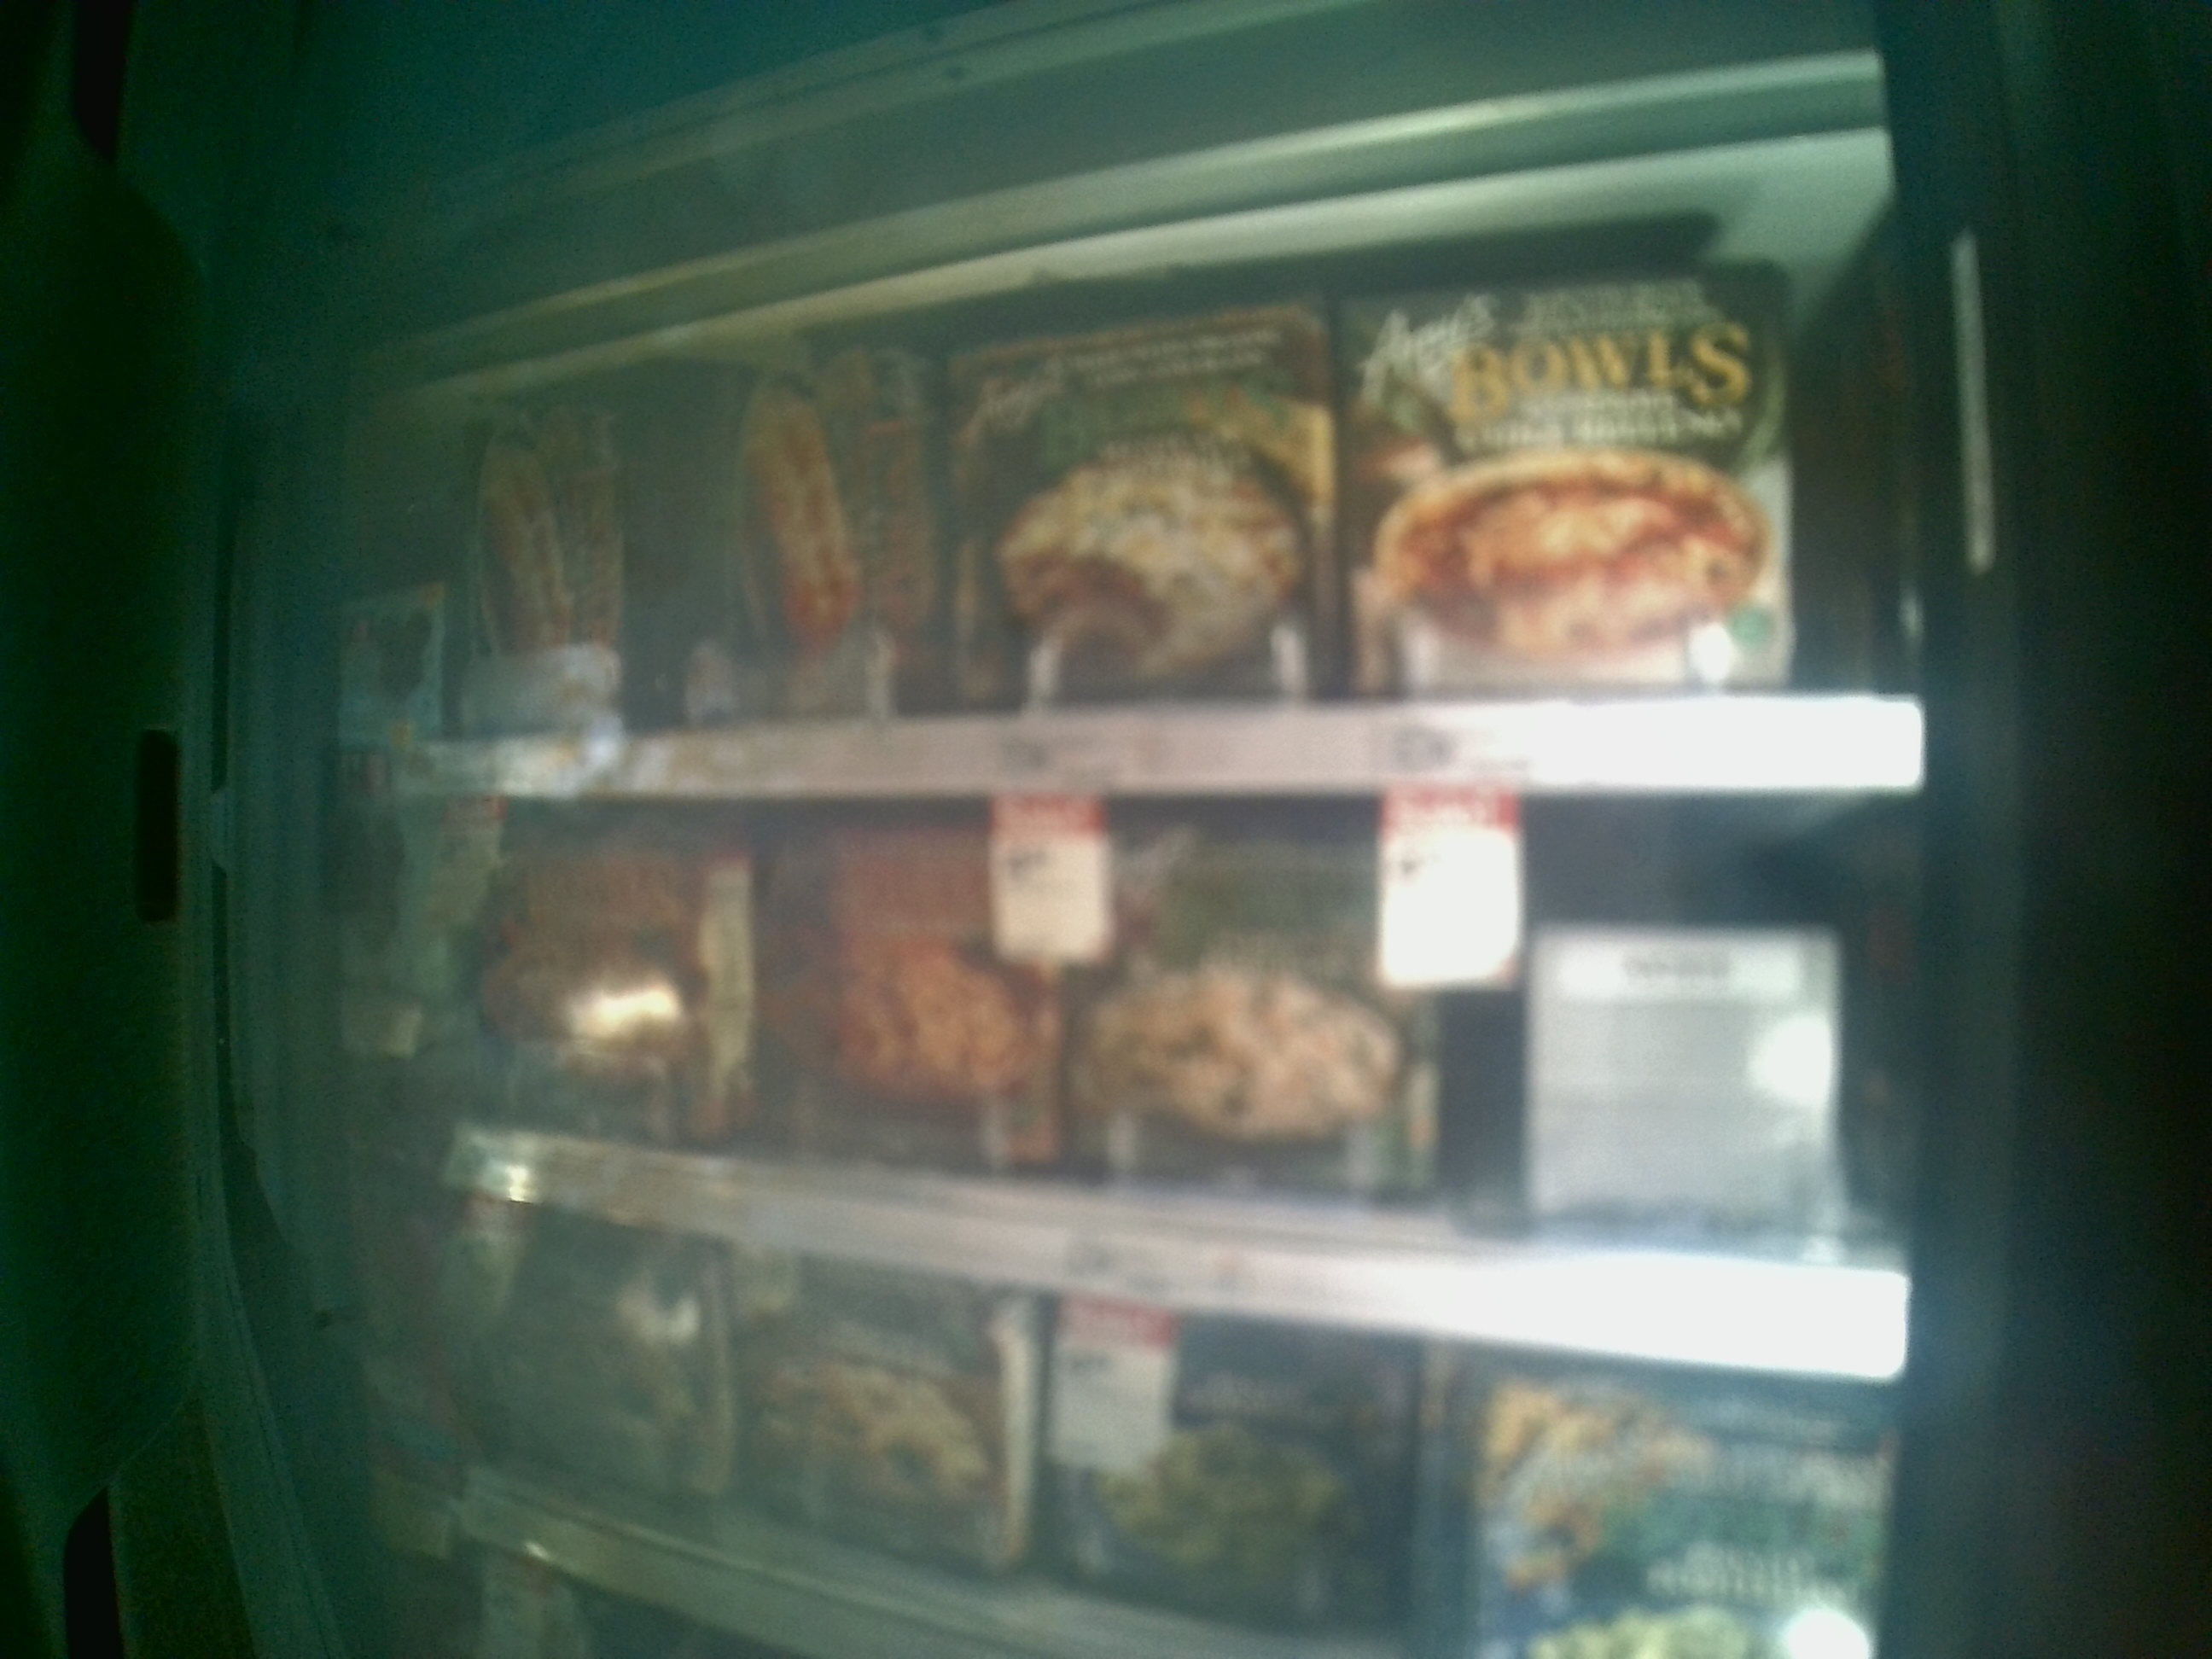frozen-food-shelf: (303, 796, 1946, 1385), (307, 404, 1951, 798)
